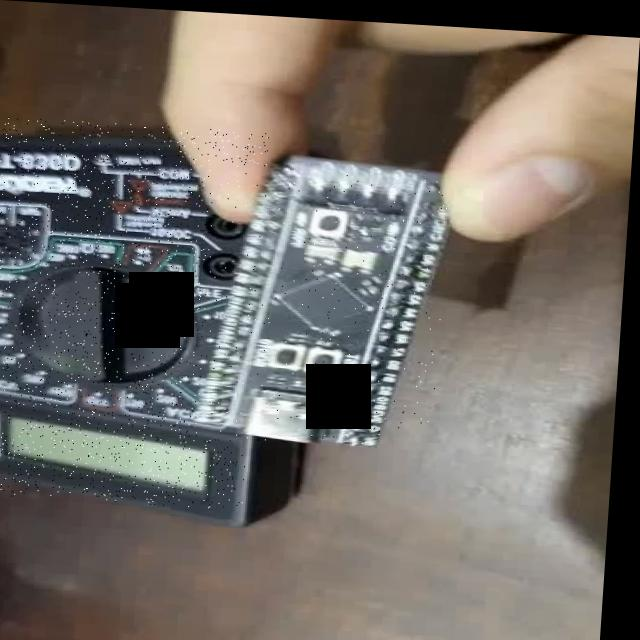multimeter: (0, 116, 271, 507)
stm32: (203, 160, 452, 445)
